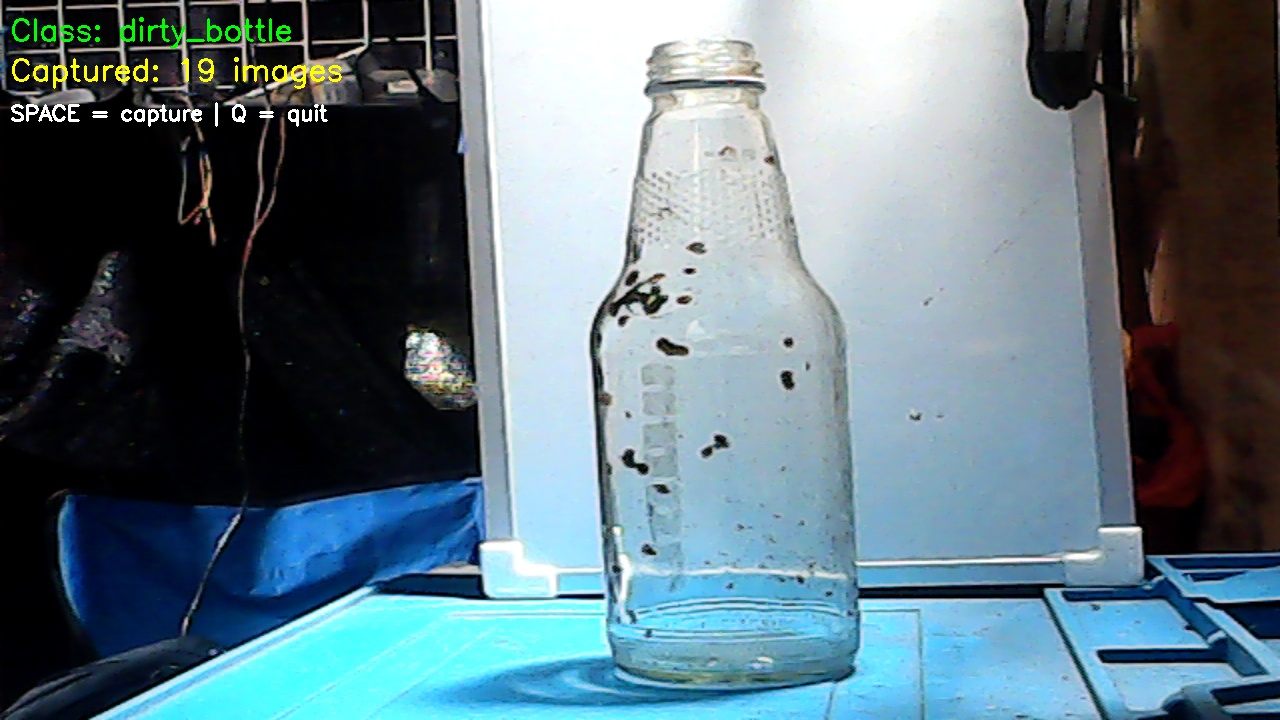dirty_bottle: (584, 28, 868, 687)
